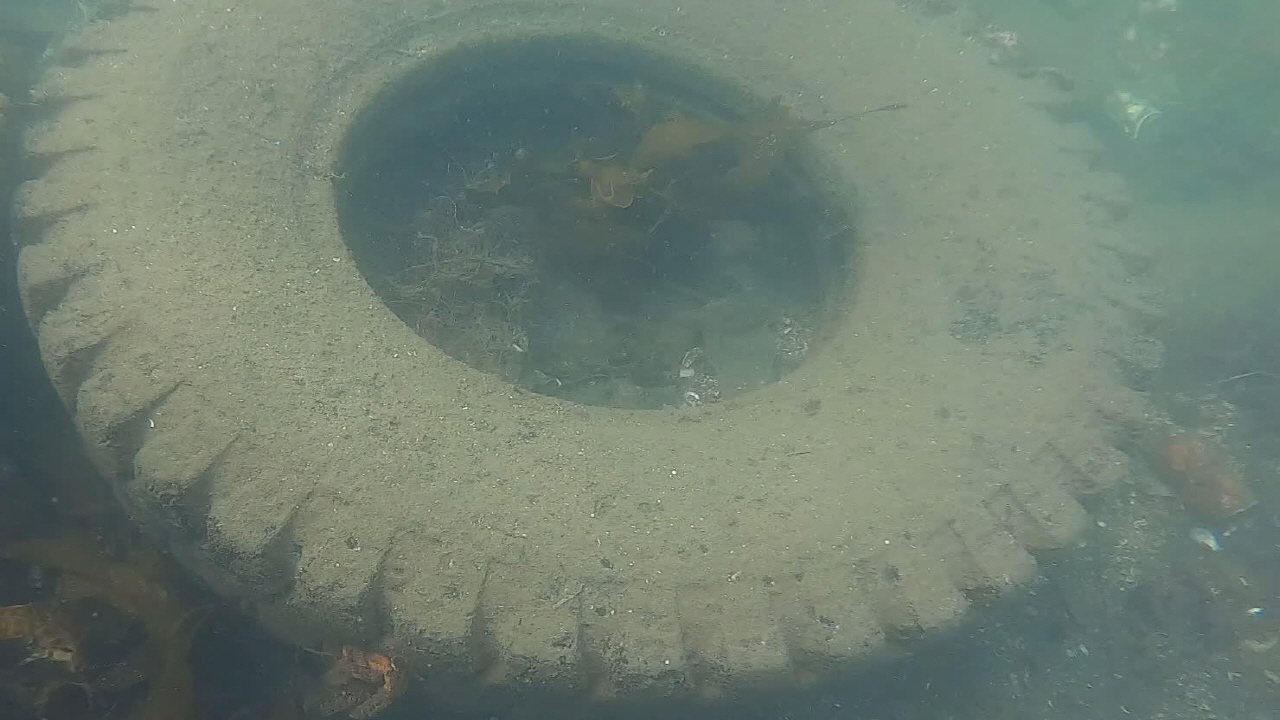tire: (5, 0, 1166, 693)
